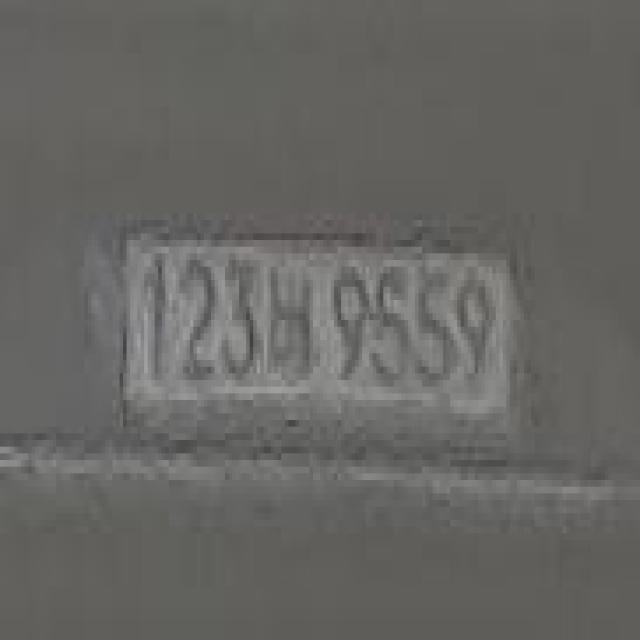illegal_plate: (112, 219, 530, 447)
